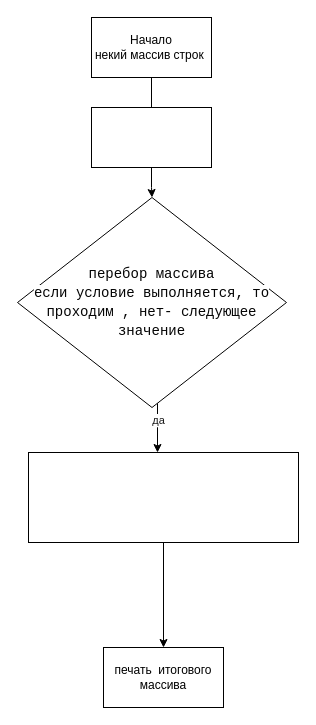
The diagram is 316 pixels wide and 725 high, and some of its shapes have lost their labels. The centre of each missing label's shape, as x and y in pixels:
count++ значение копируется в новый массив arrStringNew[count] = arrString[i]: the point at 163,497
создаем новый массив строк той же длины что исходный: the point at 151,137
